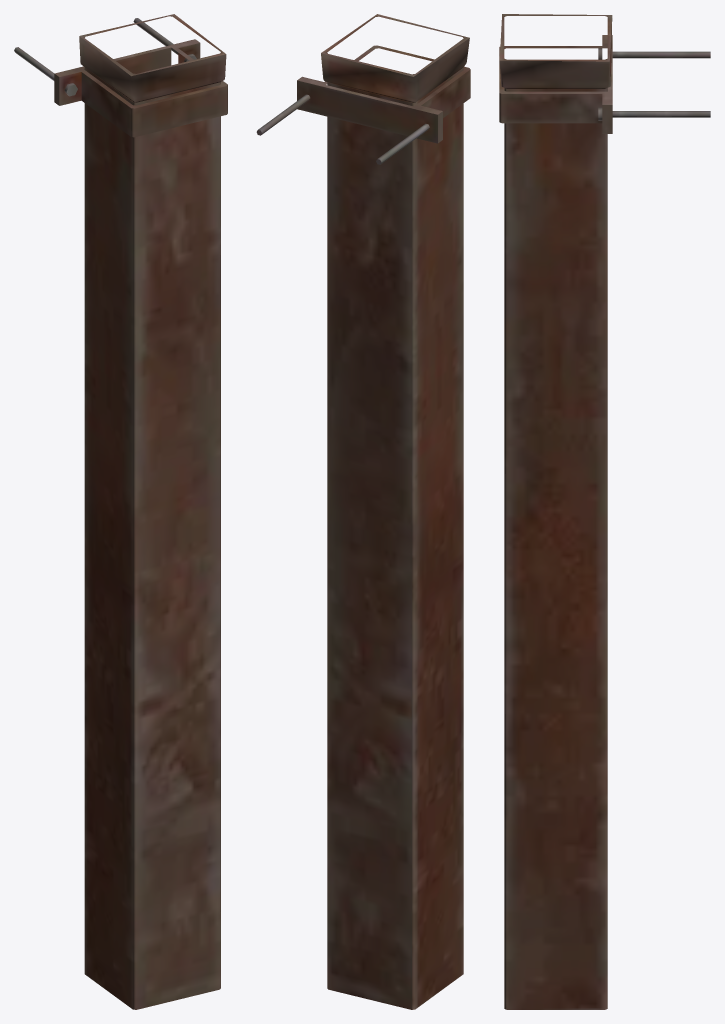
File: gutter_100.glb
3 views of the same model, side by side, from view 1: azimuth 30°, elevation 25°; view 2: azimuth 150°, elevation 25°; view 3: azimuth 270°, elevation 25° (orthographic).
Visible parts, largest first — view 1: gutter_100, gutter_wall_connector; view 2: gutter_100, gutter_wall_connector; view 3: gutter_100, gutter_wall_connector.
Boxes of the visible parts, <box> form: gutter_100: <box>79,14,226,1009</box>; gutter_wall_connector: <box>14,18,227,137</box>; gutter_100: <box>321,14,469,1009</box>; gutter_wall_connector: <box>256,45,470,164</box>; gutter_100: <box>499,14,612,1009</box>; gutter_wall_connector: <box>499,35,710,133</box>.
Size of the model in its own units: 0.16 by 1.02 by 0.205.
Materials: 1 (1 with a texture image).
